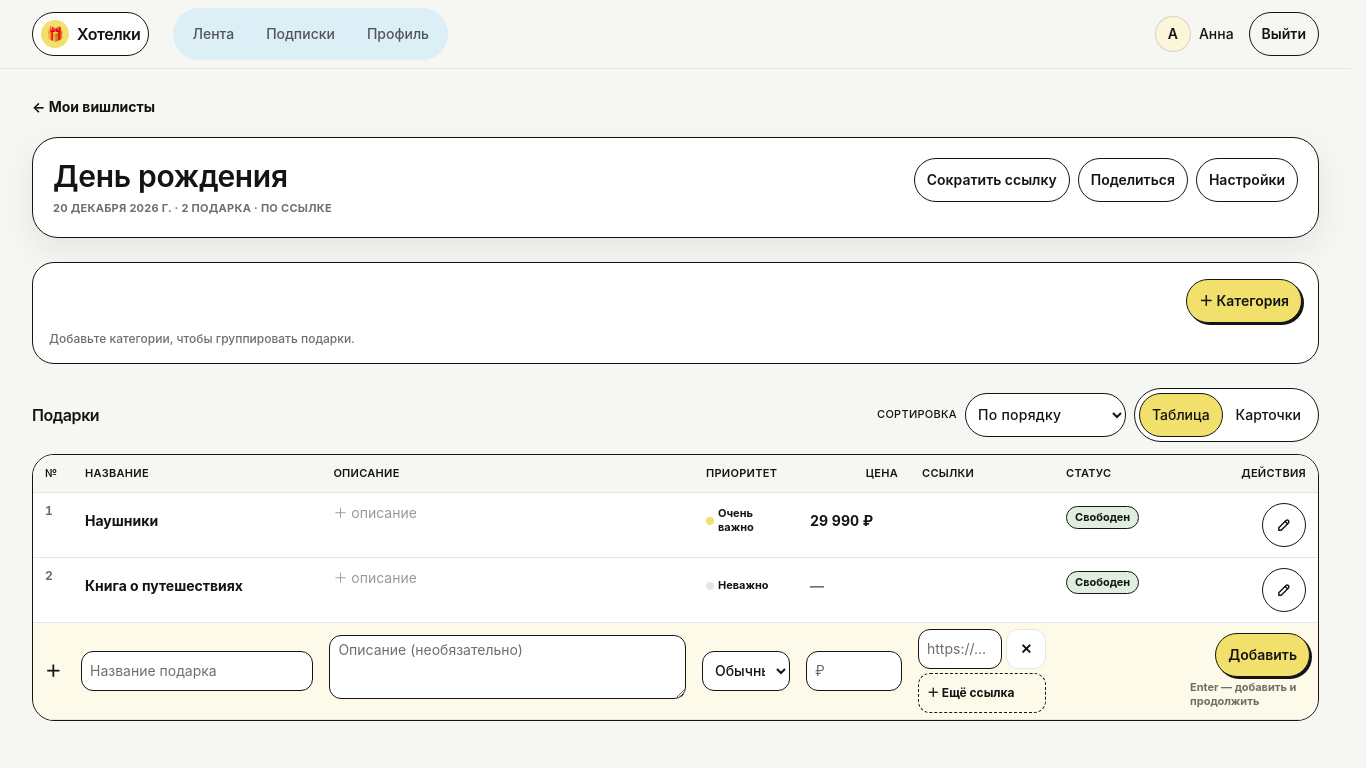
it: переключатель вида подарков › в редакторе оба вида показывают те же подарки и иконку редактирования
The image size is (1366, 768).
Expected: the text "Наушники" is shown, [85,511,158,531]
Click the button "Карточки". click: (1268, 414)
box: [1223,392,1314,436]
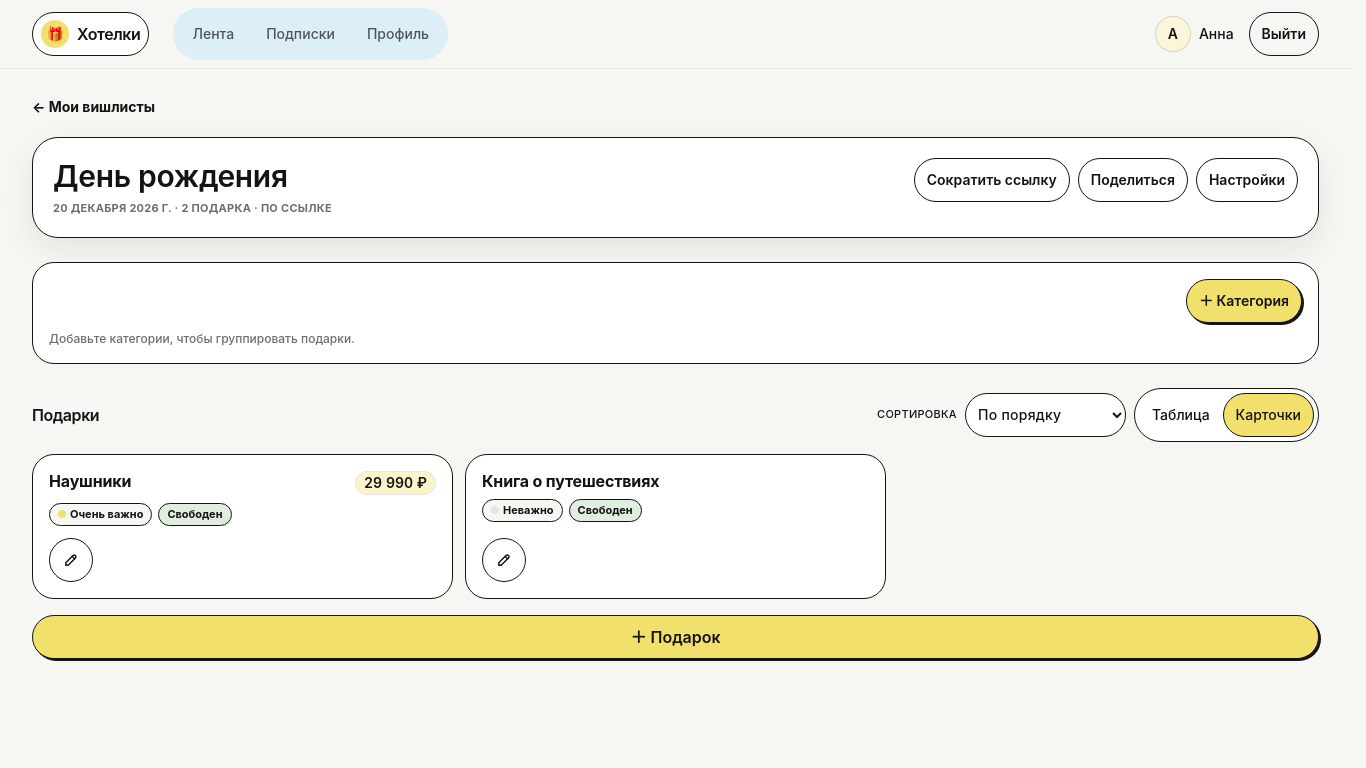
Expected: the heading "Книга о путешествиях" is shown, [482,470,659,490]
Expected: the element that starts with "Наушники" is shown, [32,454,886,599]
Expected: the number of buttons named "Редактировать подарок" is 2
Note: Иконка открывает модалку редактирования.
Click the button named "Редактировать подарок" below "Очень важно". click: (71, 560)
box: [49,538,93,582]
(page scrolled)
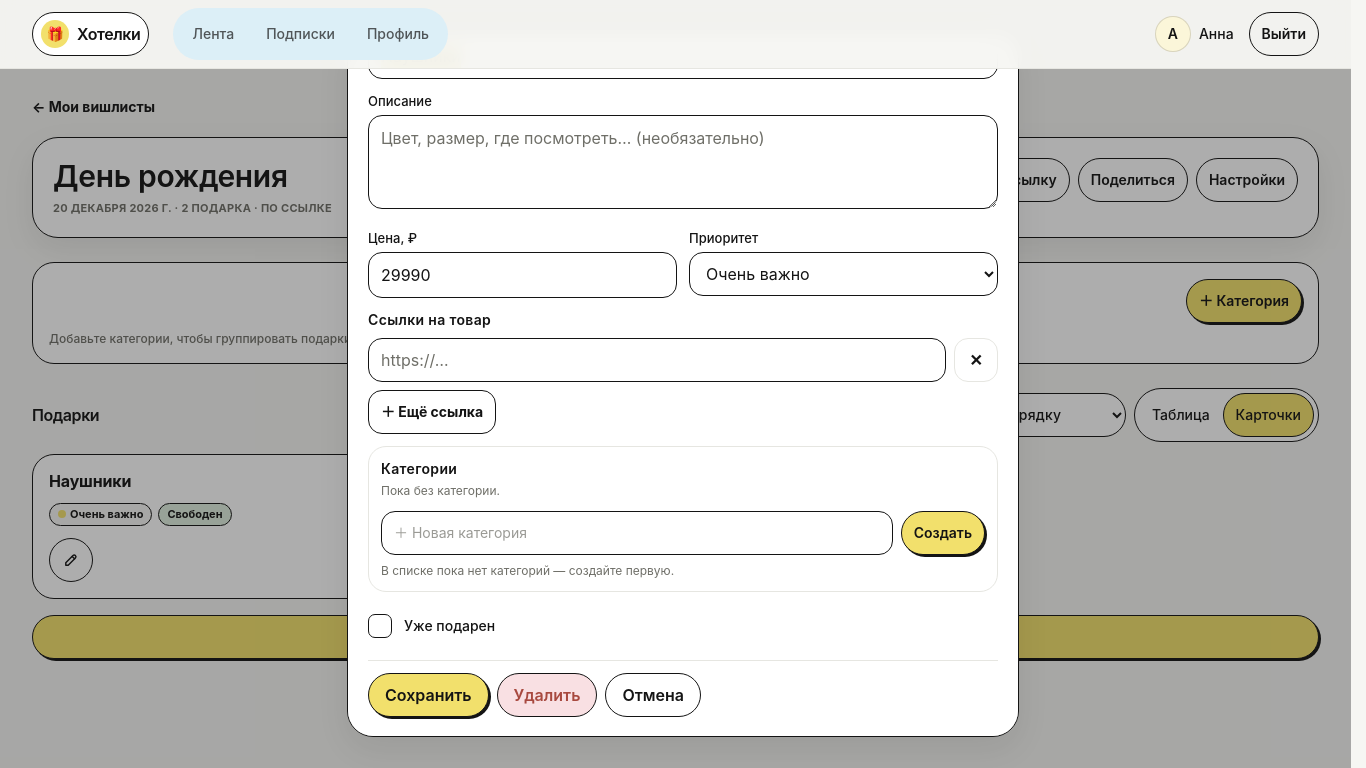
Expected: the button "Сохранить" is shown, [368,673,488,717]
Click the button "Отмена". click: (653, 695)
box: [606,673,701,717]
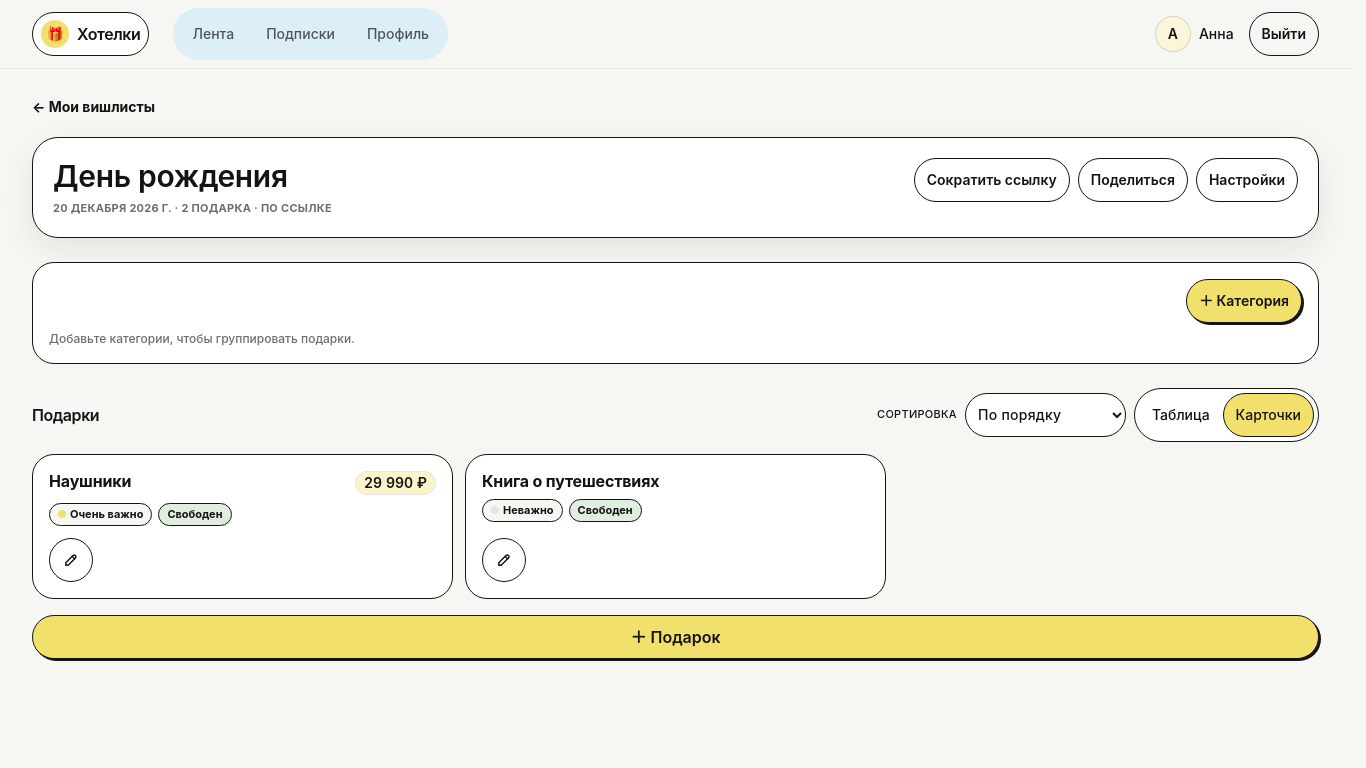
Click the button "Таблица". click: (1181, 414)
box: [1139,392,1223,436]
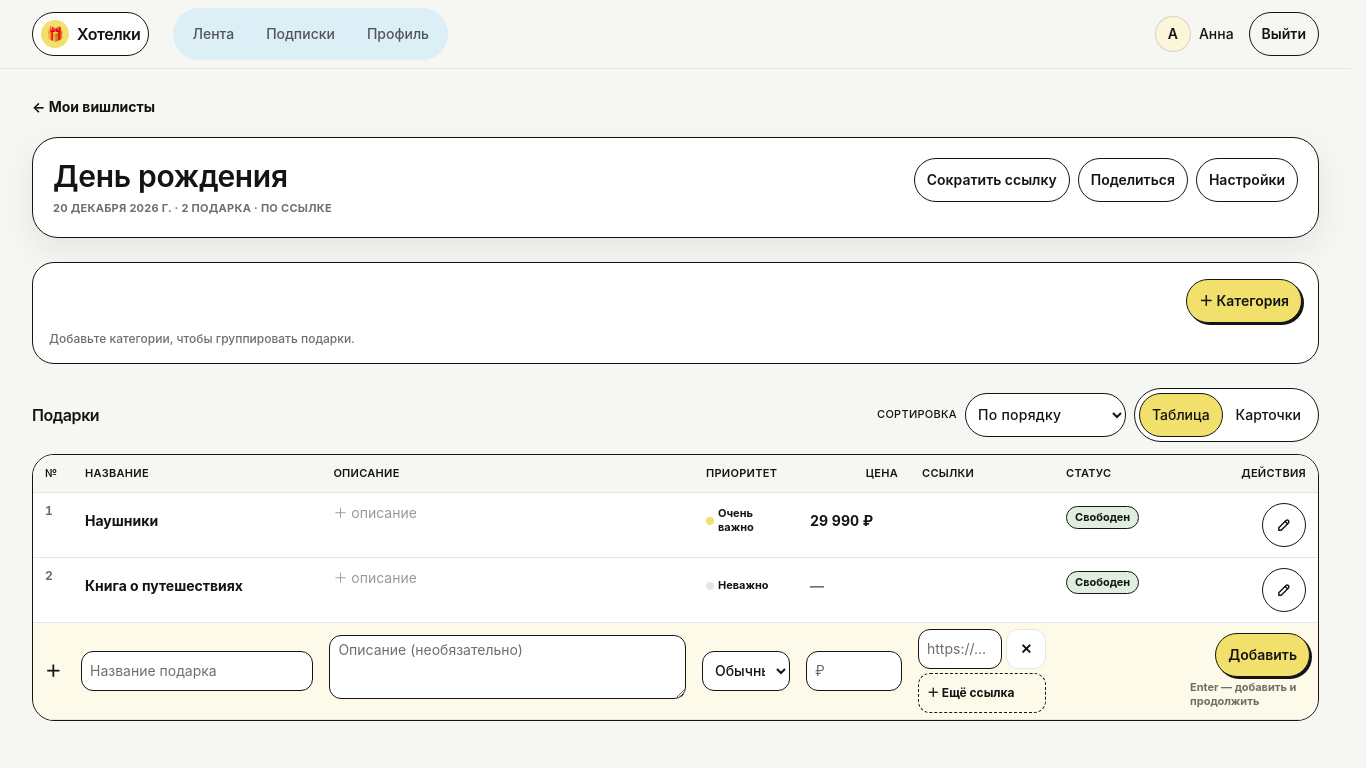
Expected: the element that starts with "Название" is shown, [32,454,1319,720]
Expected: the number of buttons named "Редактировать подарок" is 2, [1262,503,1306,547]; [1262,568,1306,612]
